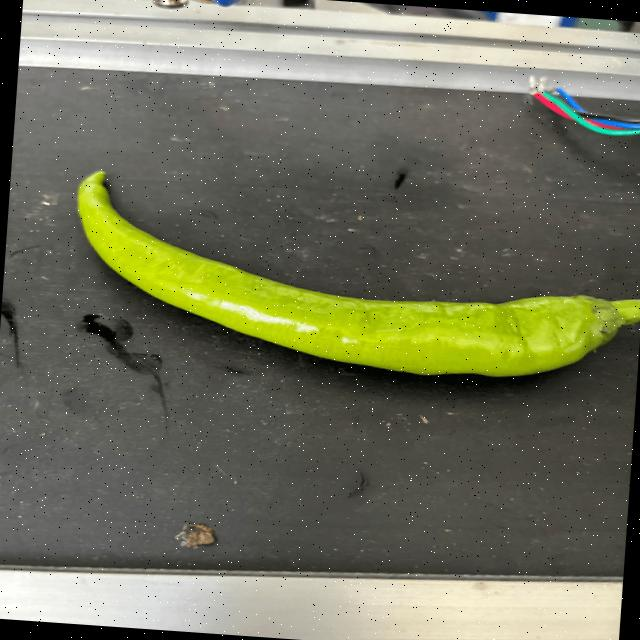chili: (74, 166, 623, 378)
